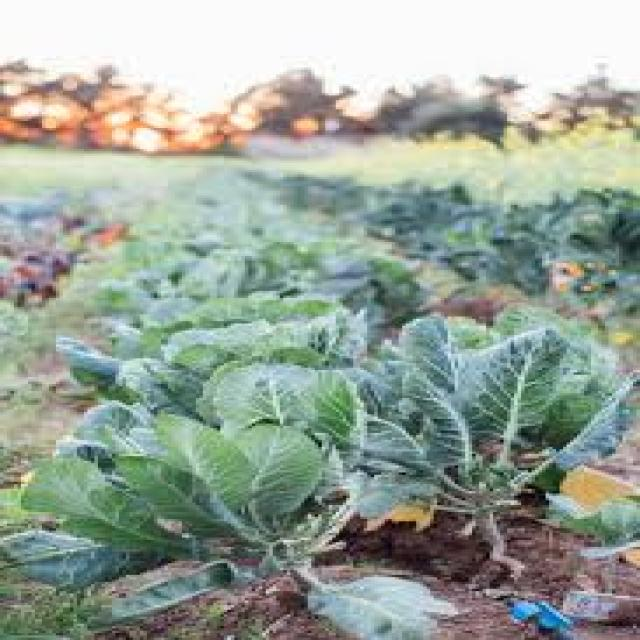organic waste: (14, 351, 458, 638), (332, 300, 637, 531), (53, 289, 374, 412), (115, 247, 294, 321), (528, 188, 637, 284), (297, 252, 430, 324), (437, 216, 539, 294), (538, 254, 636, 335), (360, 200, 451, 247), (416, 182, 497, 218)
